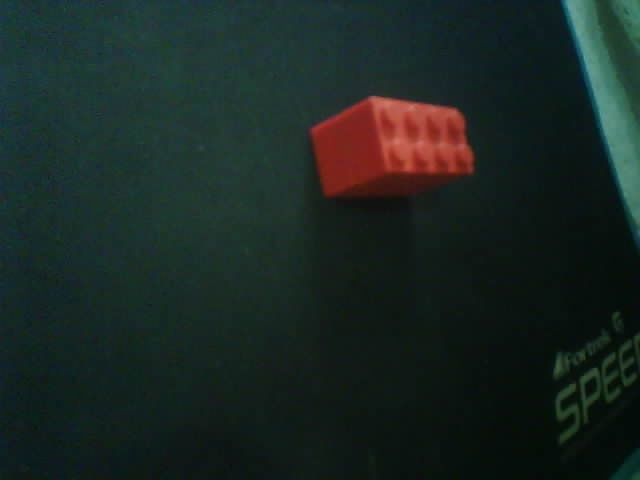lego: (308, 95, 476, 199)
